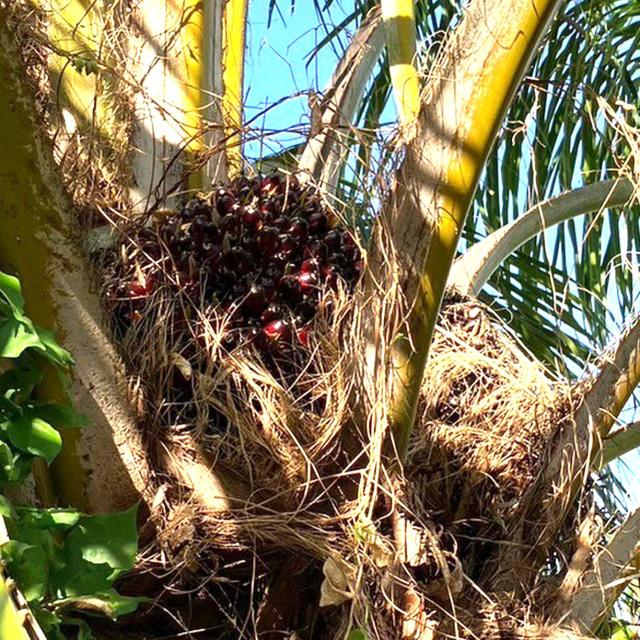ripe: (93, 158, 374, 452)
